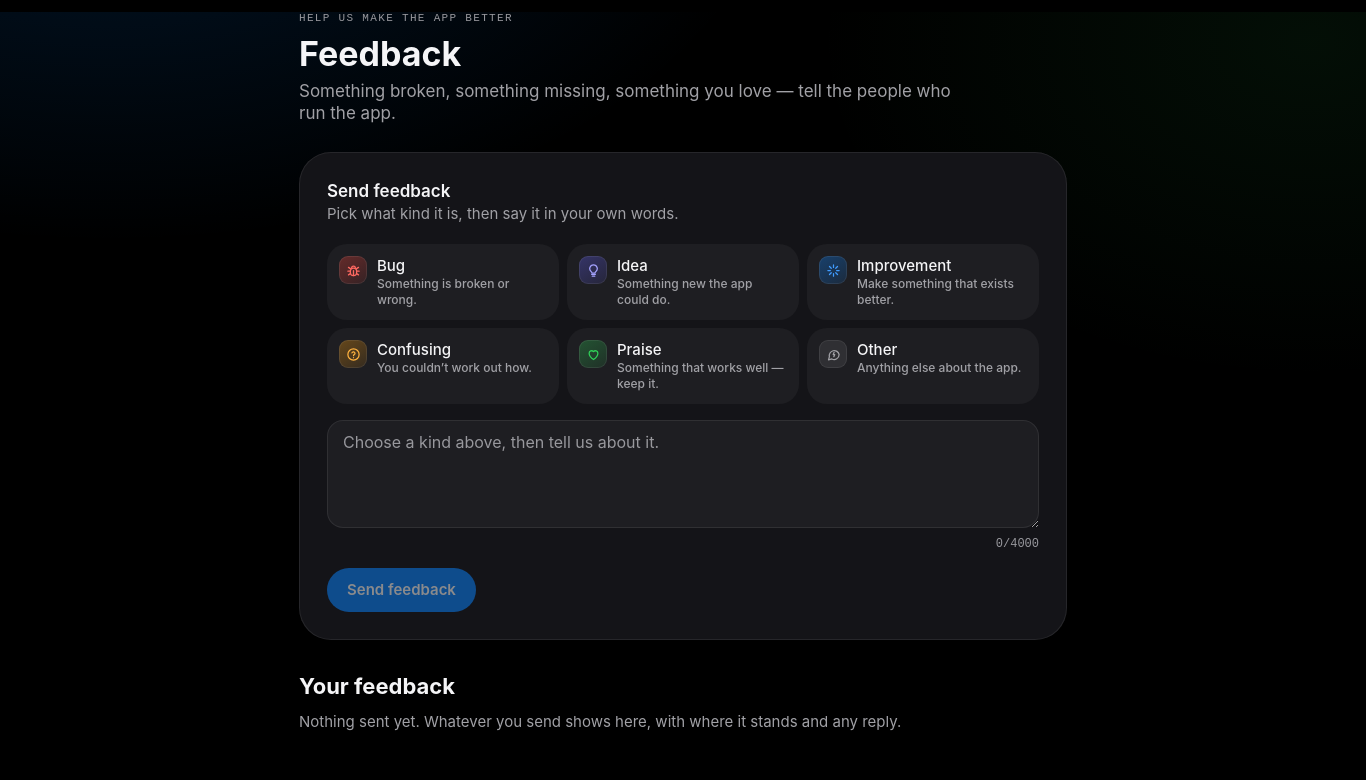
Test: sending feedback › offers the six kinds, and asks for one before it will send
Type "Something" into the text box named "Your feedback".
click(683, 474); type("Something")  # box [327,420,1039,528]
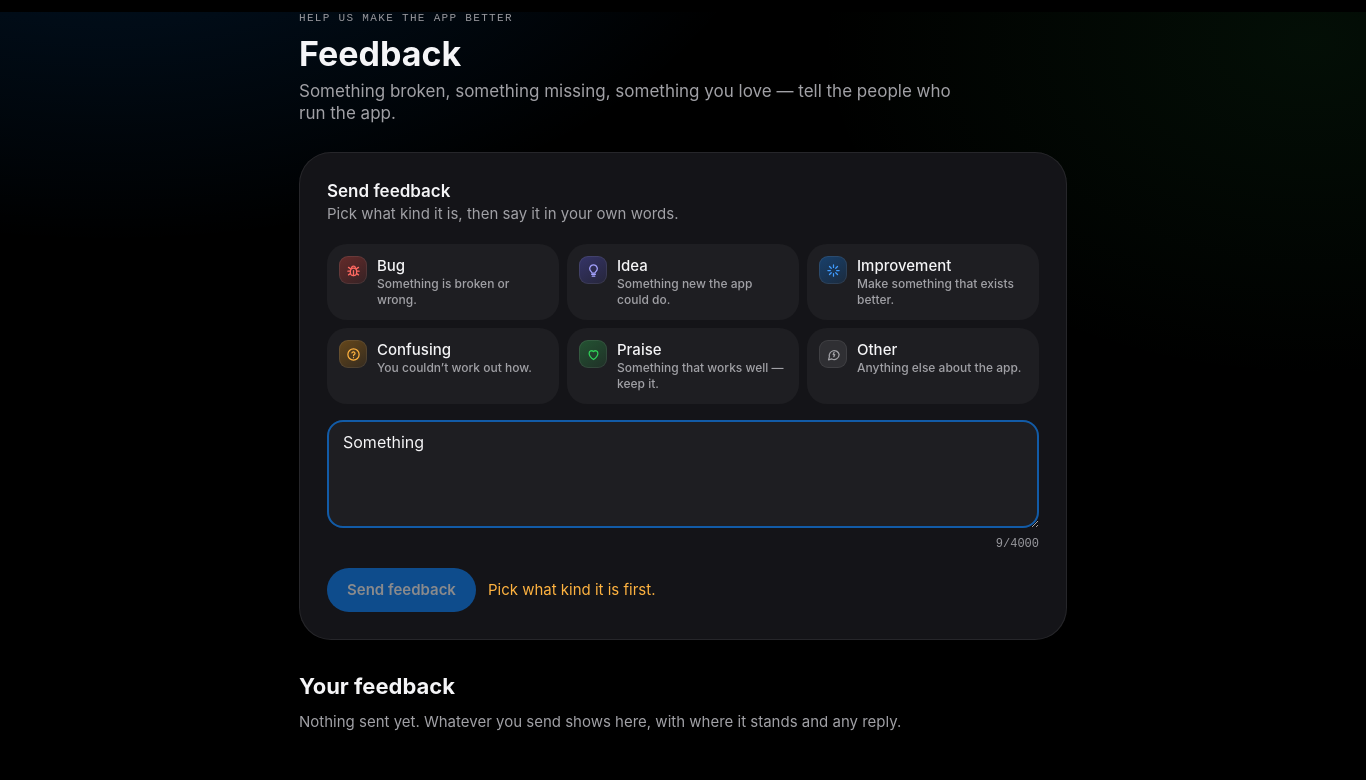
Expected: the button "Send feedback" is disabled, [327,568,476,612]
Expected: the text "Pick what kind it is first." is shown, [488,580,656,600]
